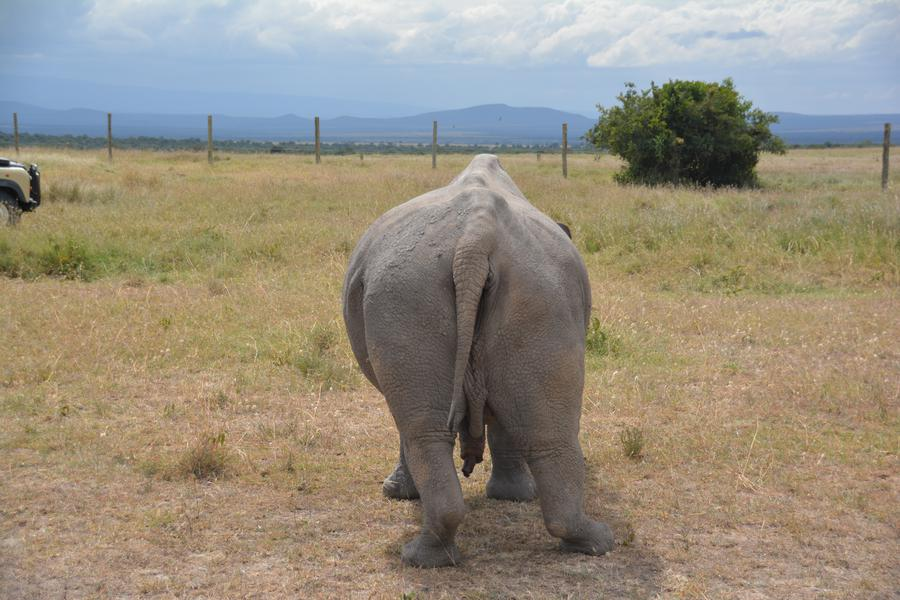rhino: (329, 150, 633, 567)
